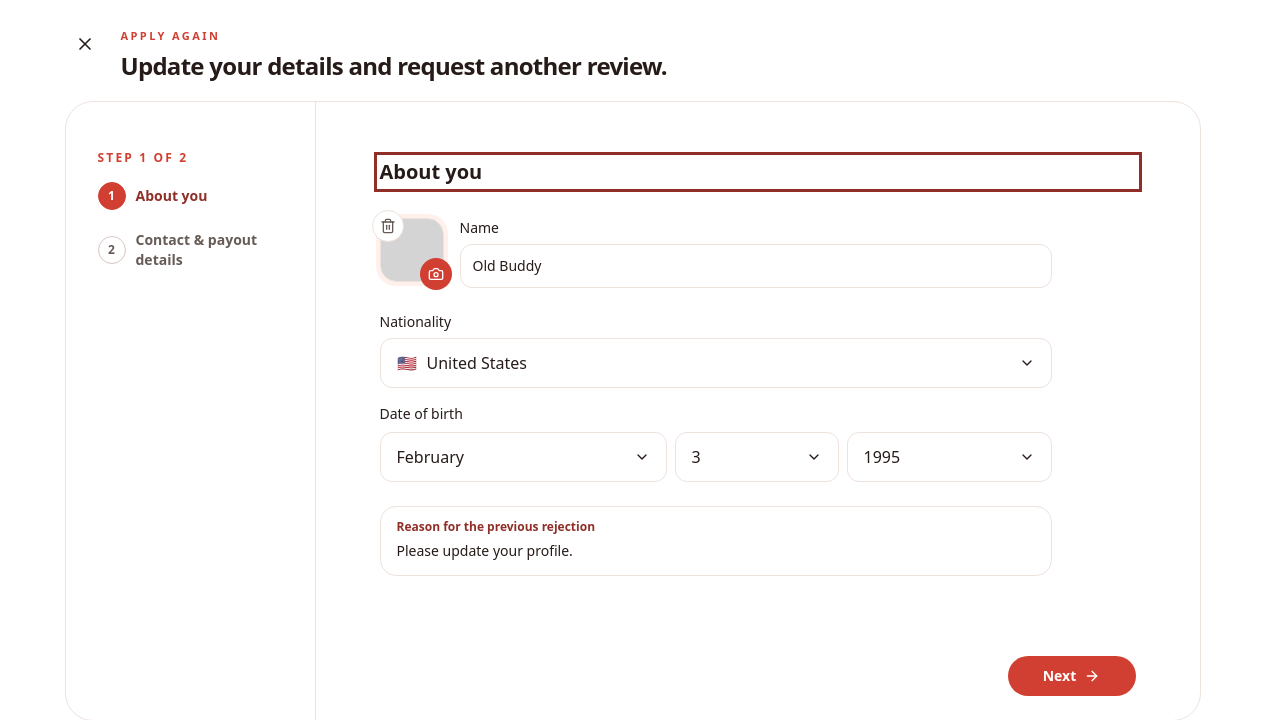
OnboardingForm › hides the buddy phone country code even for a foreign nationality
Click the button "Next".
click(1072, 676)  # box [1008, 656, 1136, 696]
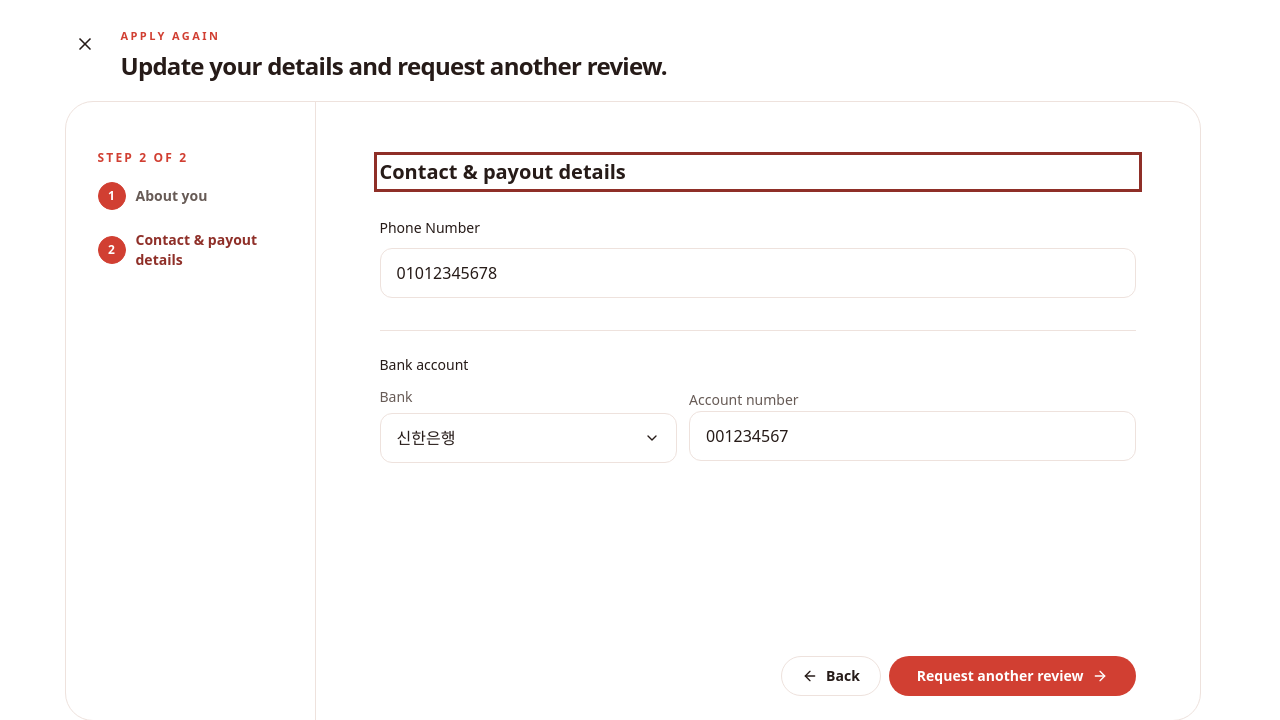
Check: the field named "Phone number" holds "01012345678", box [380, 248, 1136, 298]
